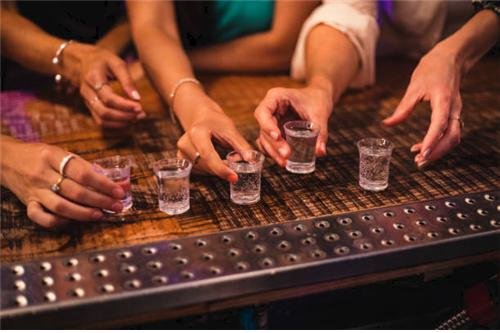alcohol: (92, 156, 135, 216), (152, 158, 192, 216), (226, 149, 263, 205), (283, 121, 322, 173), (357, 139, 393, 190)
